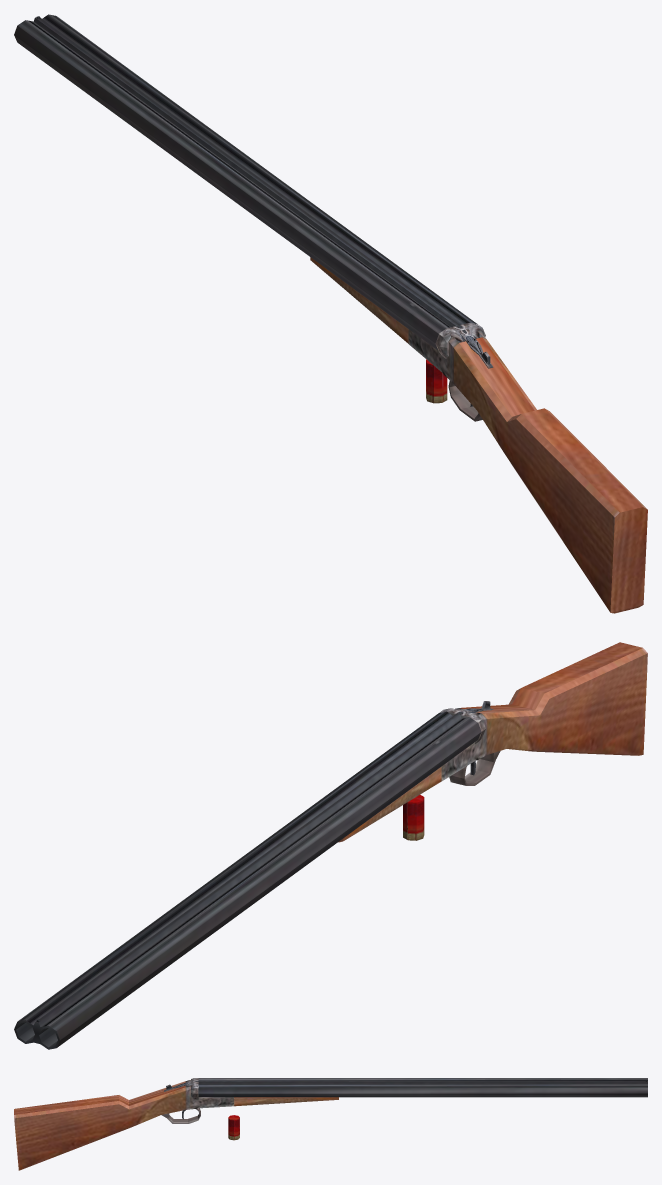
The model's file is Izh54.fbx.
The picture shows the model from 3 angles, top to bottom: view 1: azimuth 30°, elevation 25°; view 2: azimuth 150°, elevation 25°; view 3: azimuth 270°, elevation 25°; orthographic projection. The views are drawn at different scales.
Visible parts, largest first — view 1: Barrel, Corp; view 2: Barrel, Corp, 12Gauge; view 3: Barrel, Corp, 12Gauge.
Part boxes in pixels (bbox=[...]): Barrel: bbox=[14, 14, 477, 349]; Corp: bbox=[408, 322, 647, 613]; Barrel: bbox=[14, 711, 481, 1049]; Corp: bbox=[439, 642, 647, 785]; 12Gauge: bbox=[403, 795, 424, 840]; Barrel: bbox=[198, 1078, 647, 1106]; Corp: bbox=[14, 1078, 233, 1170]; 12Gauge: bbox=[228, 1115, 239, 1140].
Size of the model in its own units: 24 by 81.29 by 537.
1 material, 1 textured.
